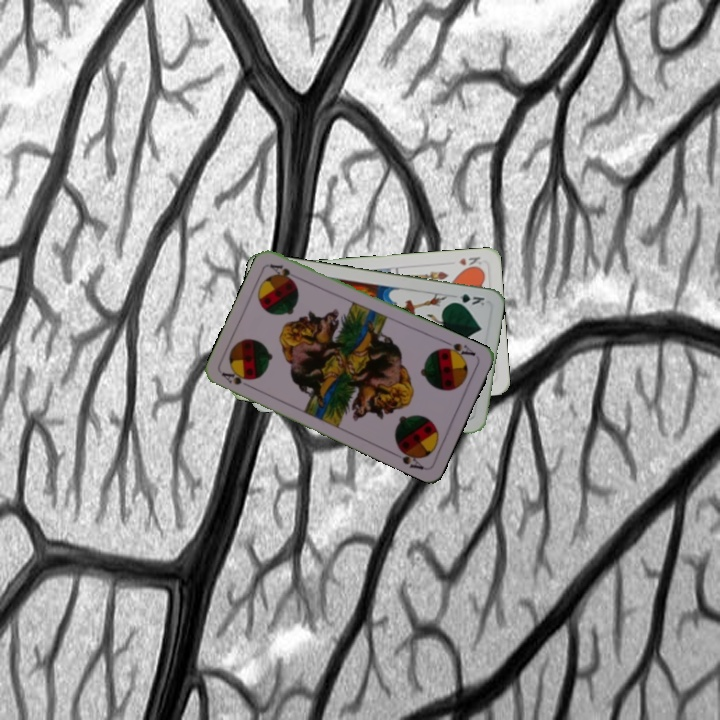GK: (447, 289, 487, 308)
HK: (455, 253, 483, 272)
SA: (437, 337, 478, 362), (218, 367, 256, 391)
